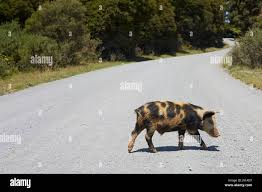boar: (131, 99, 220, 153)
